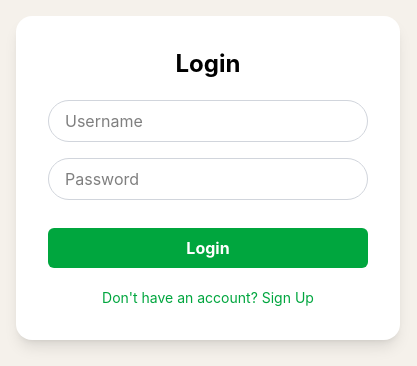
it: AuthForm › toggles between Login and Sign Up
Click the text "Don't have an account? Sign Up" at coordinates (208, 298), box [102, 289, 314, 306]
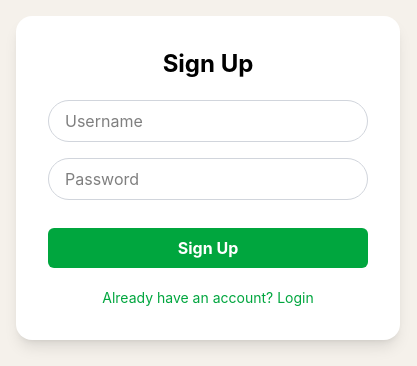
Expected: the button "Sign Up" is shown, [48, 228, 368, 268]
Click the text "Already have an account? Login" at coordinates (208, 298), box [102, 289, 314, 306]
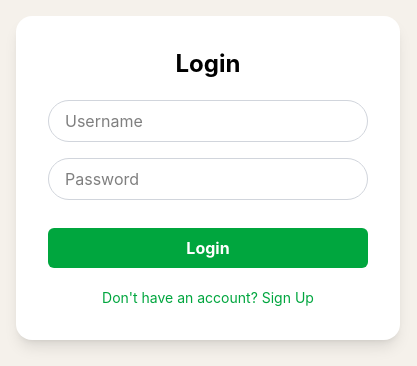
Expected: the button "Login" is shown, [48, 228, 368, 268]
